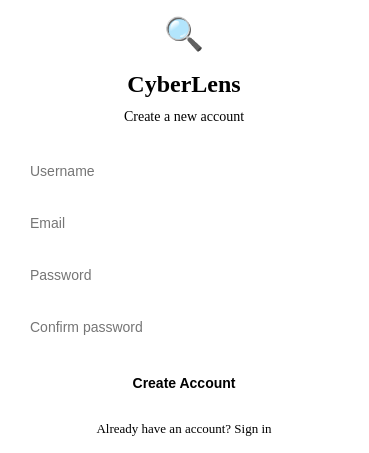
RegisterPage › shows loading state while submitting
The image size is (369, 453).
Step 1. Type "u" into the field with placeholder "Username" → (184,171), box [16,151,352,191]
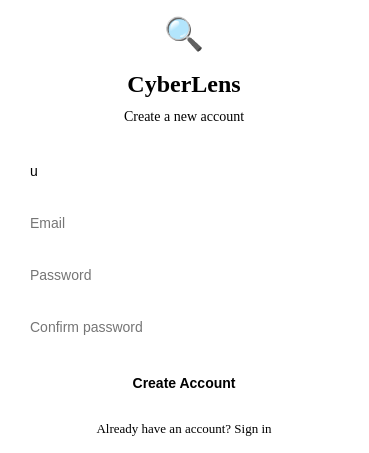
Step 2. Type "u@b.com" into the field with placeholder "Email" → (184,223), box [16,203,352,243]
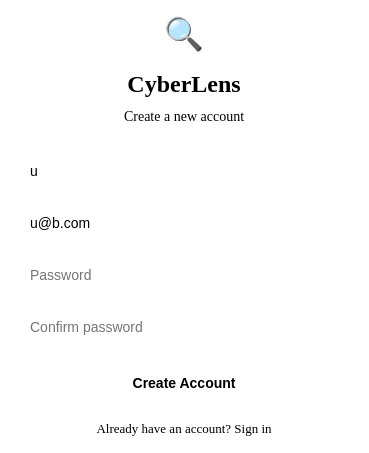
Step 3. Type "p" into the password field with placeholder "Password" → (184,275), box [16,255,352,295]
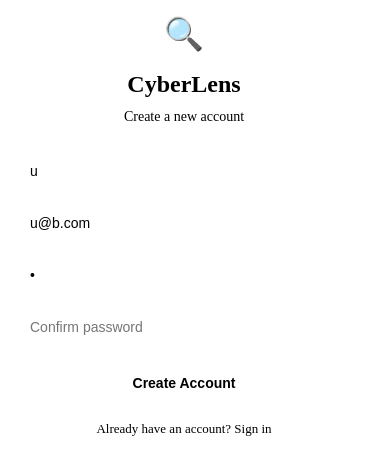
Step 4. Type "p" into the password field with placeholder "Confirm password" → (184,327), box [16,307,352,347]
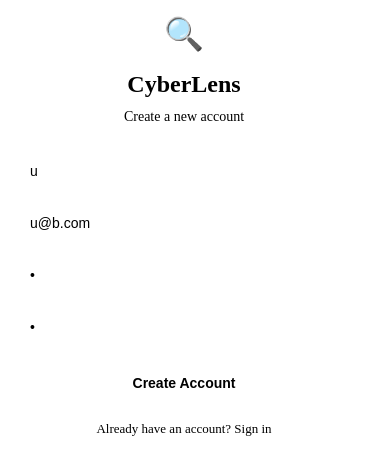
Step 5. Click the button "Create Account" → (184,383), box [16,363,352,403]
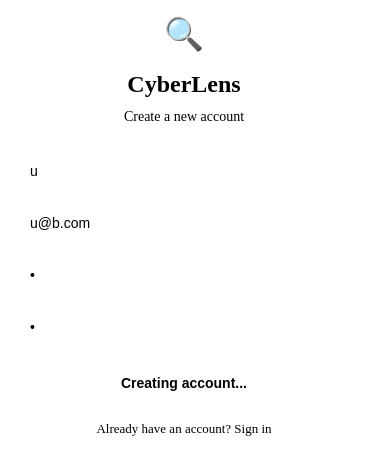
Now the button "Creating account..." is disabled, box [16,363,352,403]
